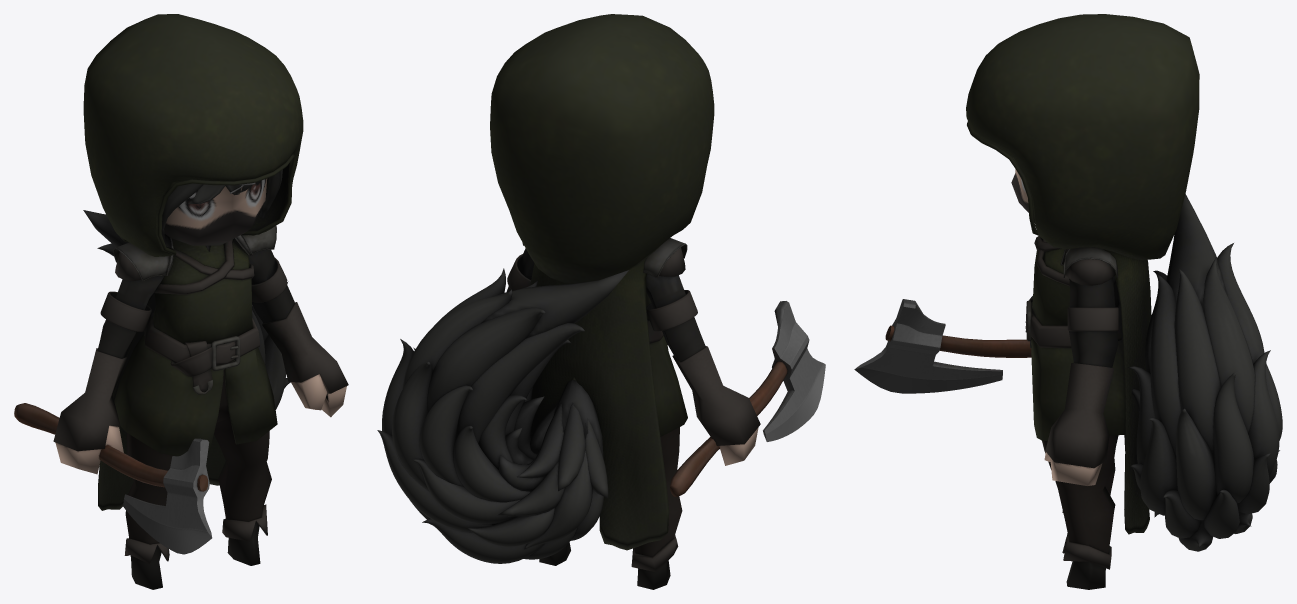
Rendered from Bandit_Brandy.fbx.
3 views of the same model, side by side, from view 1: azimuth 30°, elevation 25°; view 2: azimuth 150°, elevation 25°; view 3: azimuth 270°, elevation 25° (orthographic). The views are drawn at different scales.
Parts seen in each view (by area): view 1: Bandit_5.002; view 2: Bandit_5.002; view 3: Bandit_5.002.
Boxes of the visible parts, x1=… form: Bandit_5.002: x1=14, y1=14, x2=348, y2=589; Bandit_5.002: x1=377, y1=14, x2=825, y2=589; Bandit_5.002: x1=854, y1=14, x2=1282, y2=589.
Size of the model in its own units: 107 by 188 by 135.
